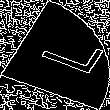L_NW: (16, 30, 94, 80)
